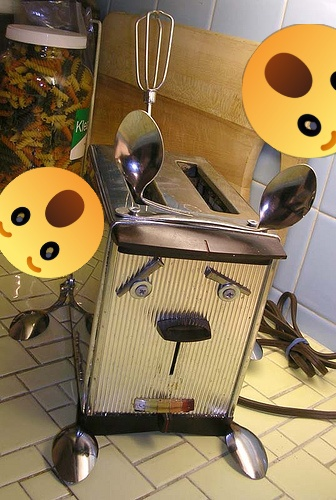wow: (242, 24, 336, 158), (0, 167, 104, 278)
